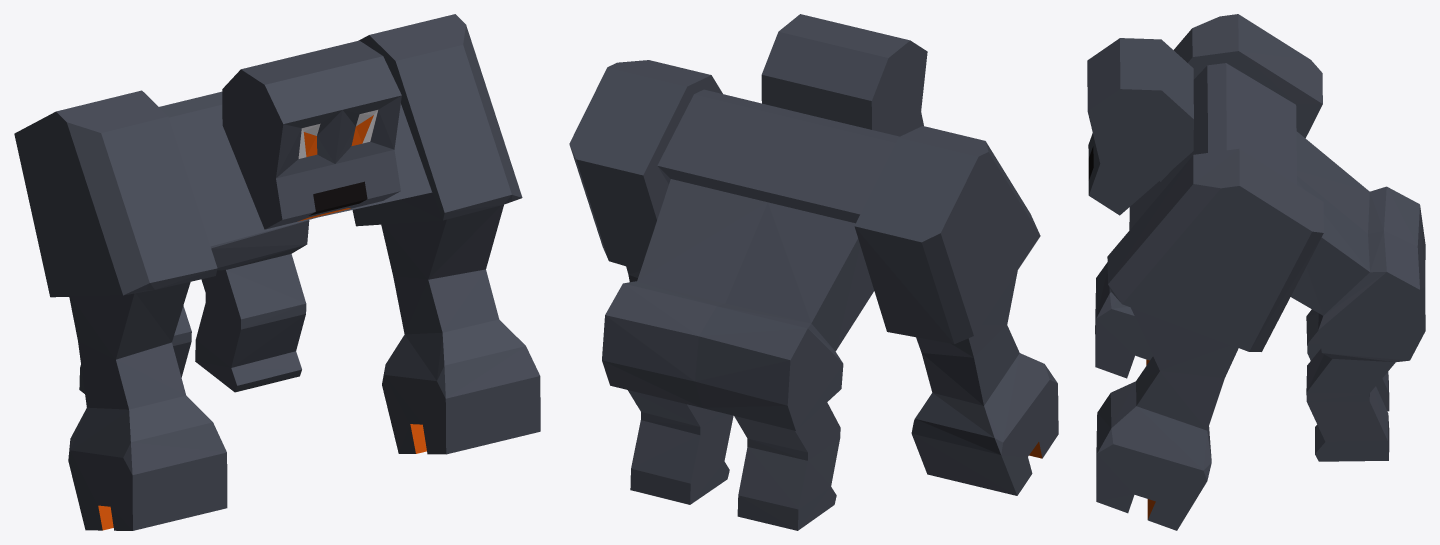
The model's file is kong_000007.obj.
3 views of the same model, side by side, from view 1: azimuth 30°, elevation 25°; view 2: azimuth 150°, elevation 25°; view 3: azimuth 270°, elevation 25° (orthographic). The views are drawn at different scales.
Visible parts, largest first — view 1: Cube; view 2: Cube; view 3: Cube.
Part boxes in pixels (left/top/right/bottom): Cube: left=14, top=14, right=540, bottom=530; Cube: left=569, top=14, right=1058, bottom=530; Cube: left=1087, top=14, right=1425, bottom=530.
Bounding box in the file's own units: 5.85 × 5.89 × 4.75.
Materials: 1 (1 with a texture image).
